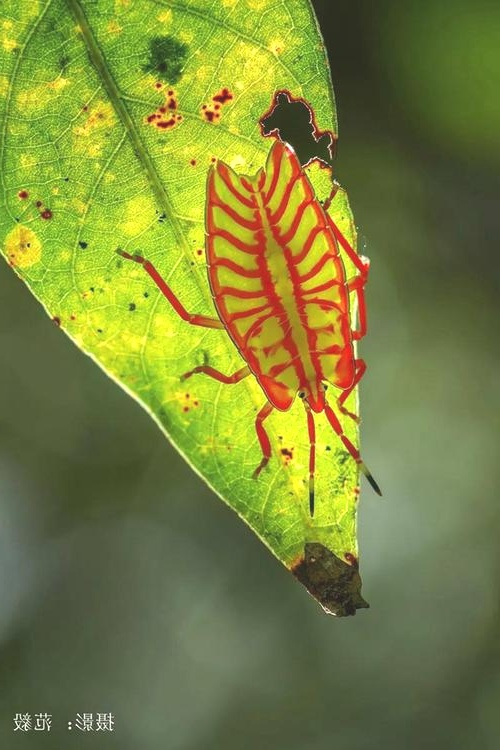Stink_Bug: (192, 145, 386, 446)
